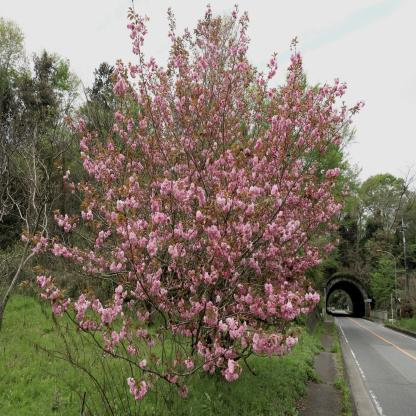YaeSakura: (19, 0, 367, 400)
